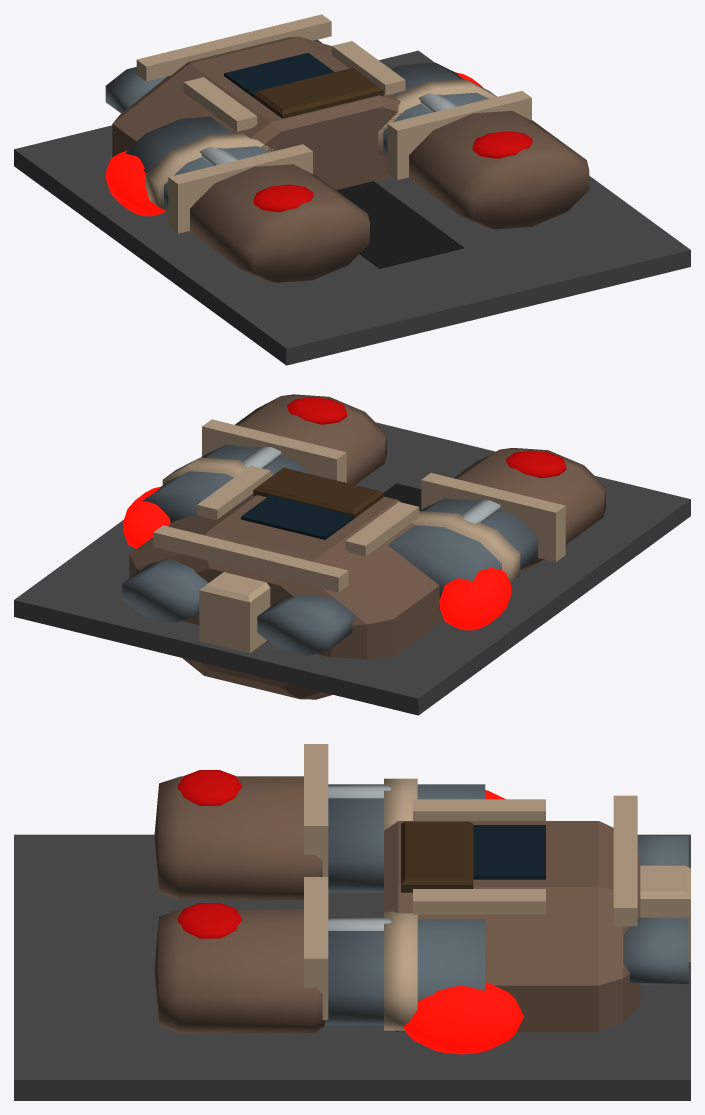
File: newshp-271-f4.glb
3 renders of one model, top to bottom at view 1: azimuth 30°, elevation 25°; view 2: azimuth 150°, elevation 25°; view 3: azimuth 270°, elevation 25°, orthographic. The views are drawn at different scales.
Parts seen in each view (by area): view 1: newshp-271-f4; view 2: newshp-271-f4; view 3: newshp-271-f4.
Part boxes in pixels (box(x1,y1,x2,y2)): newshp-271-f4: box(14, 14, 690, 365); newshp-271-f4: box(14, 394, 690, 715); newshp-271-f4: box(14, 744, 690, 1100).
Bounding box in the file's own units: 2 × 0.6988 × 2.33.
